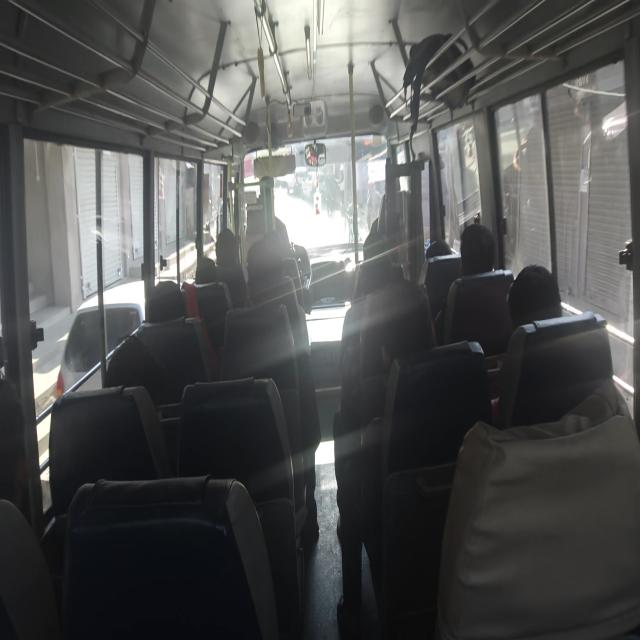person: (334, 278, 436, 636), (246, 231, 321, 543), (493, 263, 563, 424), (442, 222, 496, 343), (507, 263, 562, 329), (214, 228, 248, 308), (460, 222, 496, 276)
